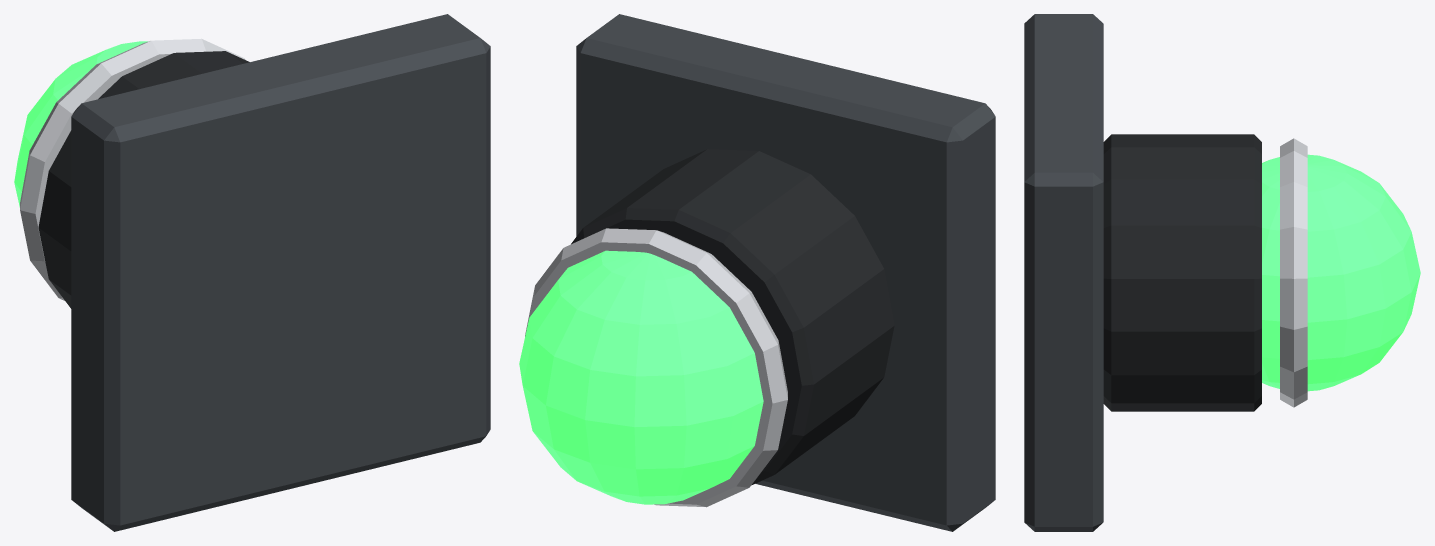
Rendered from nav_lights.glb.
3 views of the same model, side by side, from view 1: azimuth 30°, elevation 25°; view 2: azimuth 150°, elevation 25°; view 3: azimuth 270°, elevation 25° (orthographic). The views are drawn at different scales.
Parts seen in each view (by area): view 1: nav_lights; view 2: nav_lights; view 3: nav_lights.
Boxes of the visible parts, x1,y1,x2,y2 form: nav_lights: (14, 14, 490, 531); nav_lights: (519, 14, 995, 531); nav_lights: (1024, 14, 1420, 531).
Bounding box in the file's own units: 0.3 × 0.3 × 0.3.
